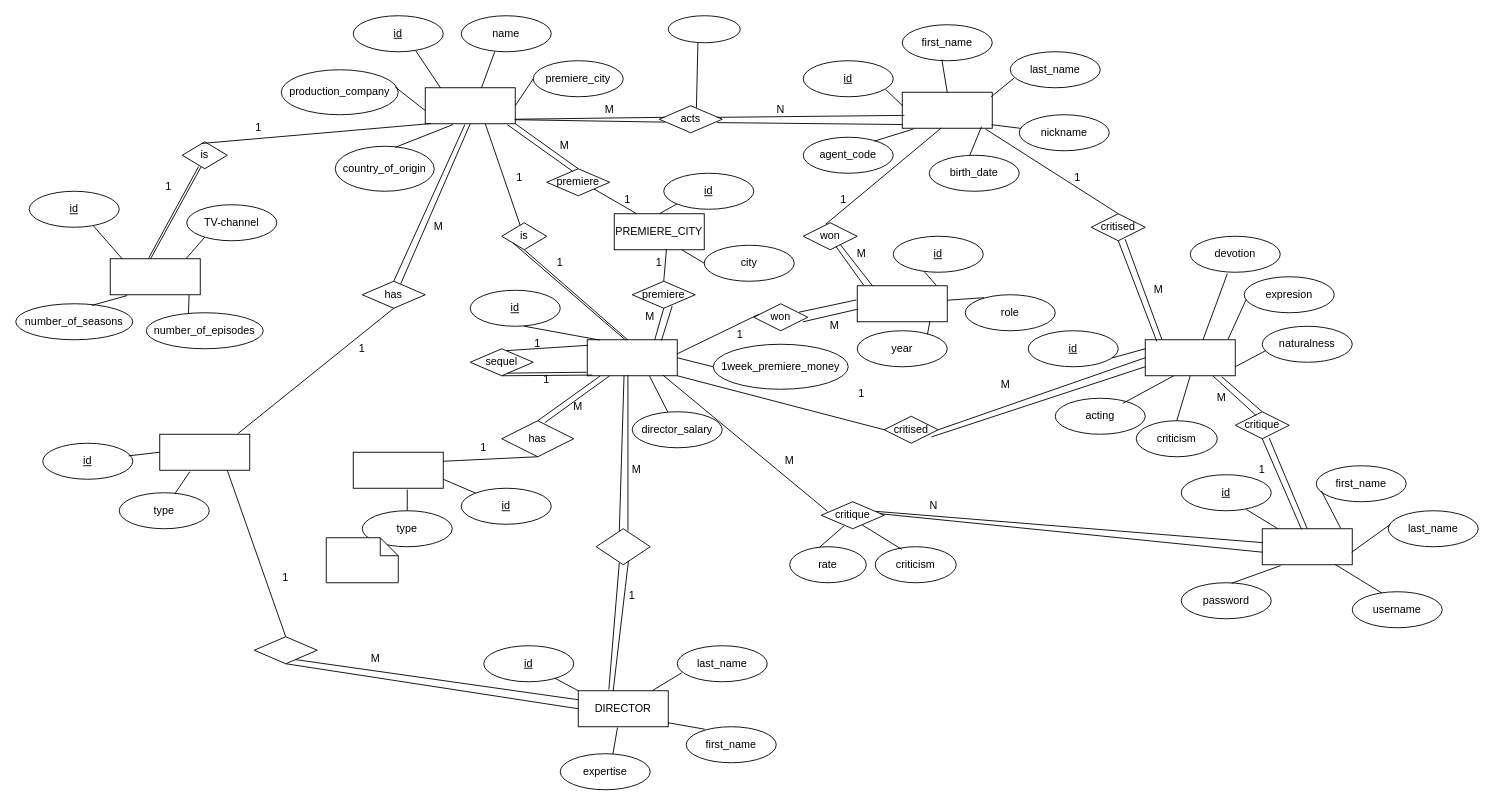
The diagram is 1494 pixels wide and 806 high, and some of its shapes have lost their labels. The box of each missing label's shape, as (x1, y1, x2, y2) in pixels:
ACTOR: (901, 91, 992, 128)
ACTOR_CRITIC: (1144, 339, 1235, 376)
Can be 2D or 3D: (325, 537, 398, 583)
CRITIC: (1261, 528, 1352, 565)
direct: (253, 636, 317, 664)
directed: (595, 528, 650, 565)
FILM: (586, 339, 677, 376)
FORMAT: (352, 451, 443, 488)
GENRE: (159, 433, 250, 470)
MOVIE: (424, 87, 515, 124)
OSCAR: (856, 285, 947, 322)
salary: (667, 15, 740, 43)
TV-SERIES: (109, 258, 200, 295)
